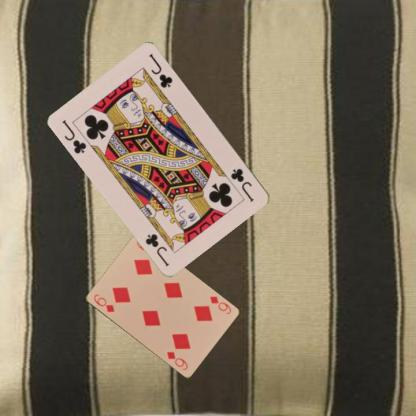6d: (90, 292, 116, 314), (207, 294, 232, 316)
Jc: (228, 166, 256, 204), (60, 118, 88, 156)
